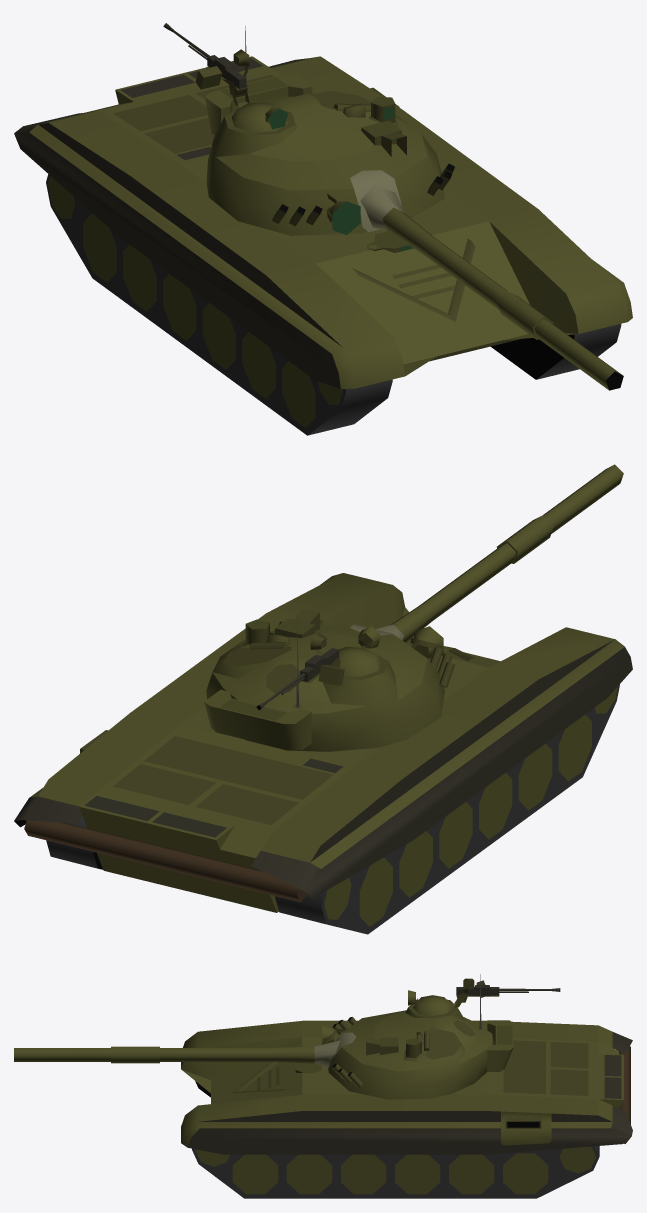
Rendered from car3.glb.
The picture shows the model from 3 angles, top to bottom: view 1: azimuth 30°, elevation 25°; view 2: azimuth 150°, elevation 25°; view 3: azimuth 270°, elevation 25°; orthographic projection. The views are drawn at different scales.
Visible parts, largest first — view 1: Body_4, Turret_3, Cannon_0, MG_1, MG_Turret_2; view 2: Body_4, Turret_3, Cannon_0, MG_1, MG_Turret_2; view 3: Body_4, Turret_3, Cannon_0, MG_1, MG_Turret_2.
Boxes of the visible parts, <box> form: Body_4: <box>14,56,632,435</box>; Turret_3: <box>205,26,454,235</box>; Cannon_0: <box>327,184,623,390</box>; MG_1: <box>163,23,249,97</box>; MG_Turret_2: <box>230,89,288,132</box>; Body_4: <box>14,573,632,934</box>; Turret_3: <box>204,608,454,751</box>; Cannon_0: <box>375,464,623,659</box>; MG_1: <box>256,632,344,710</box>; MG_Turret_2: <box>337,625,381,676</box>; Body_4: <box>181,1020,632,1198</box>; Turret_3: <box>328,974,513,1099</box>; Cannon_0: <box>14,1024,346,1066</box>; MG_1: <box>456,978,560,1002</box>; MG_Turret_2: <box>408,990,463,1015</box>.
Bounding box in the file's own units: 3.59 × 3.12 × 9.66.
1 material, 1 textured.
